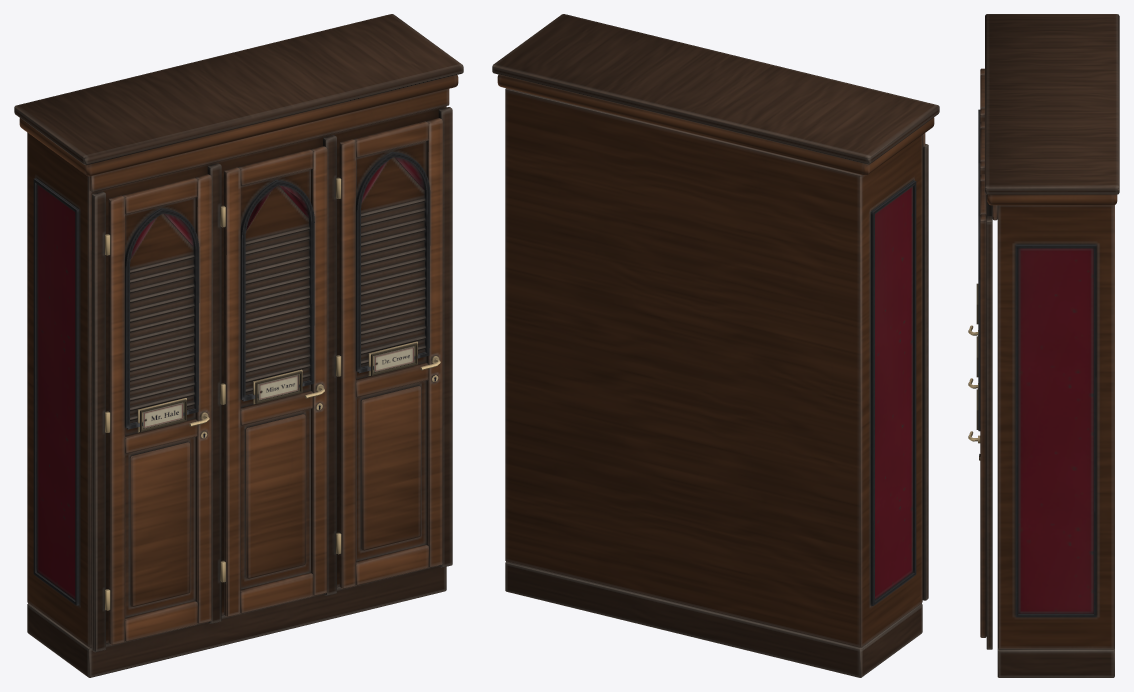
Rendered from StaffLockers.fbx.
The picture shows the model from 3 angles, left to right: view 1: azimuth 30°, elevation 25°; view 2: azimuth 150°, elevation 25°; view 3: azimuth 270°, elevation 25°; orthographic projection. The views are drawn at different scales.
Visible parts, largest first — view 1: StaffLockers; view 2: StaffLockers; view 3: StaffLockers.
Boxes of the visible parts, x1,y1,x2,y2 form: StaffLockers: (14, 14, 463, 677); StaffLockers: (492, 14, 939, 677); StaffLockers: (968, 14, 1119, 677).
Bounding box in the file's own units: 526 × 700 × 193.
